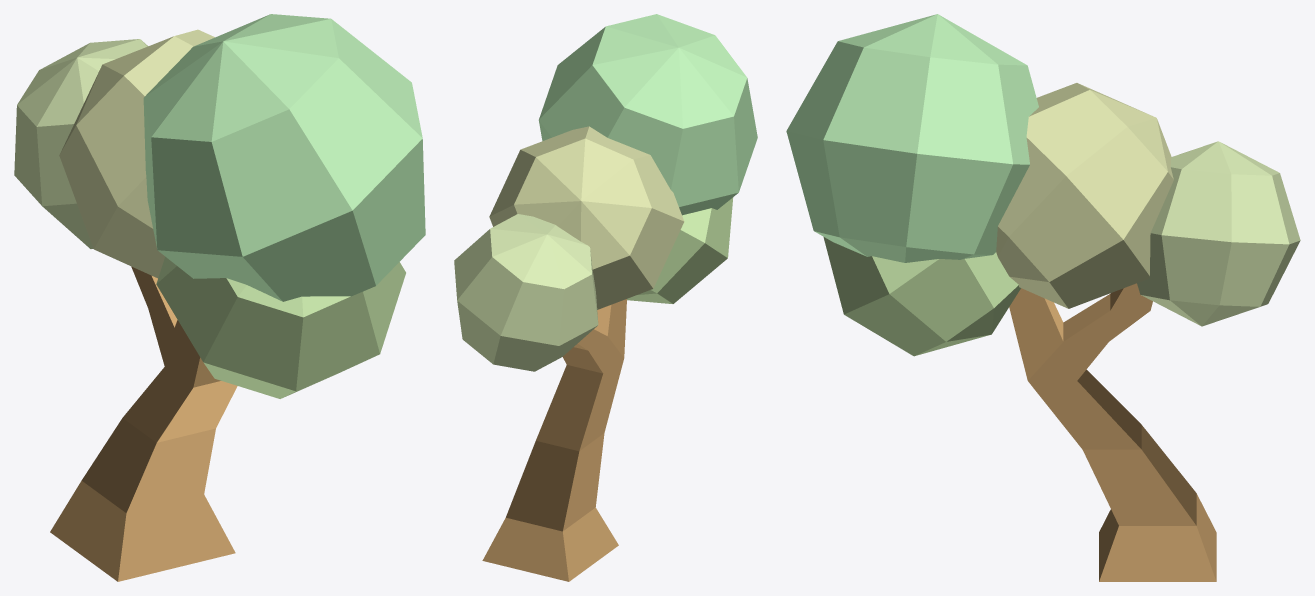
File: LowPolyTree_3.fbx
3 views of the same model, side by side, from view 1: azimuth 30°, elevation 25°; view 2: azimuth 150°, elevation 25°; view 3: azimuth 270°, elevation 25° (orthographic). The views are drawn at different scales.
Visible parts, largest first — view 1: Esfera_3, Cubo, Esfera_5, Esfera, Esfera_1; view 2: Esfera_3, Cubo, Esfera, Esfera_1, Esfera_5; view 3: Esfera_3, Esfera, Cubo, Esfera_1, Esfera_5.
Boxes of the visible parts, left/top/right/bottom form: Esfera_3: left=143, top=14, right=425, bottom=301; Cubo: left=50, top=266, right=237, bottom=581; Esfera_5: left=156, top=256, right=405, bottom=398; Esfera: left=59, top=29, right=214, bottom=278; Esfera_1: left=14, top=39, right=147, bottom=248; Esfera_3: left=538, top=14, right=757, bottom=215; Cubo: left=482, top=299, right=626, bottom=581; Esfera: left=489, top=126, right=684, bottom=309; Esfera_1: left=454, top=214, right=598, bottom=371; Esfera_5: left=627, top=197, right=733, bottom=303; Esfera_3: left=786, top=14, right=1038, bottom=262; Esfera: left=996, top=83, right=1173, bottom=308; Cubo: left=1009, top=283, right=1216, bottom=581; Esfera_1: left=1137, top=141, right=1300, bottom=326; Esfera_5: left=823, top=237, right=1020, bottom=356.
Size of the model in its own units: 531 by 1228 by 1093.
